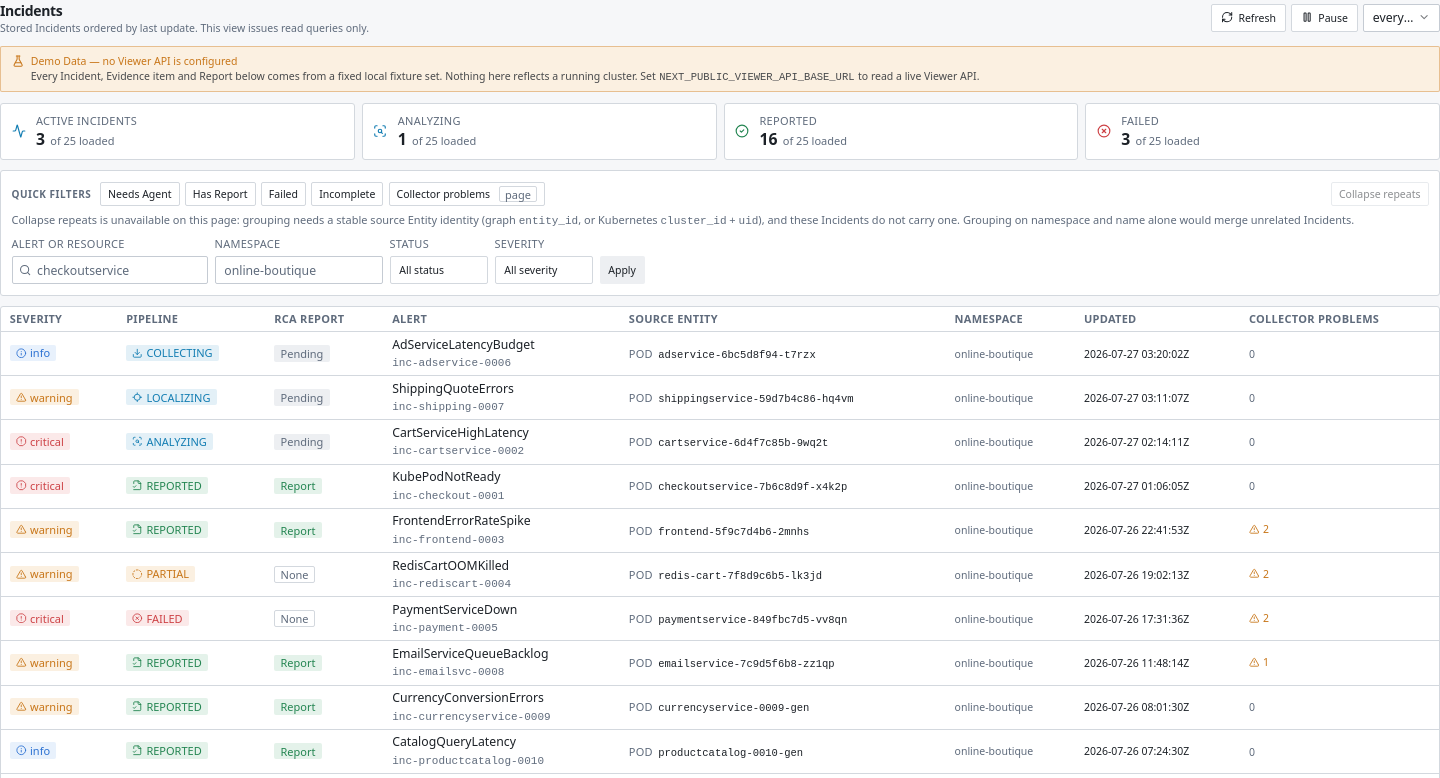
Test: IncidentListView filtering › explains an empty result instead of showing a blank table
Type "no-such-service" into the field labelled "Alert or resource" at (110, 270), box [12,256,208,284]
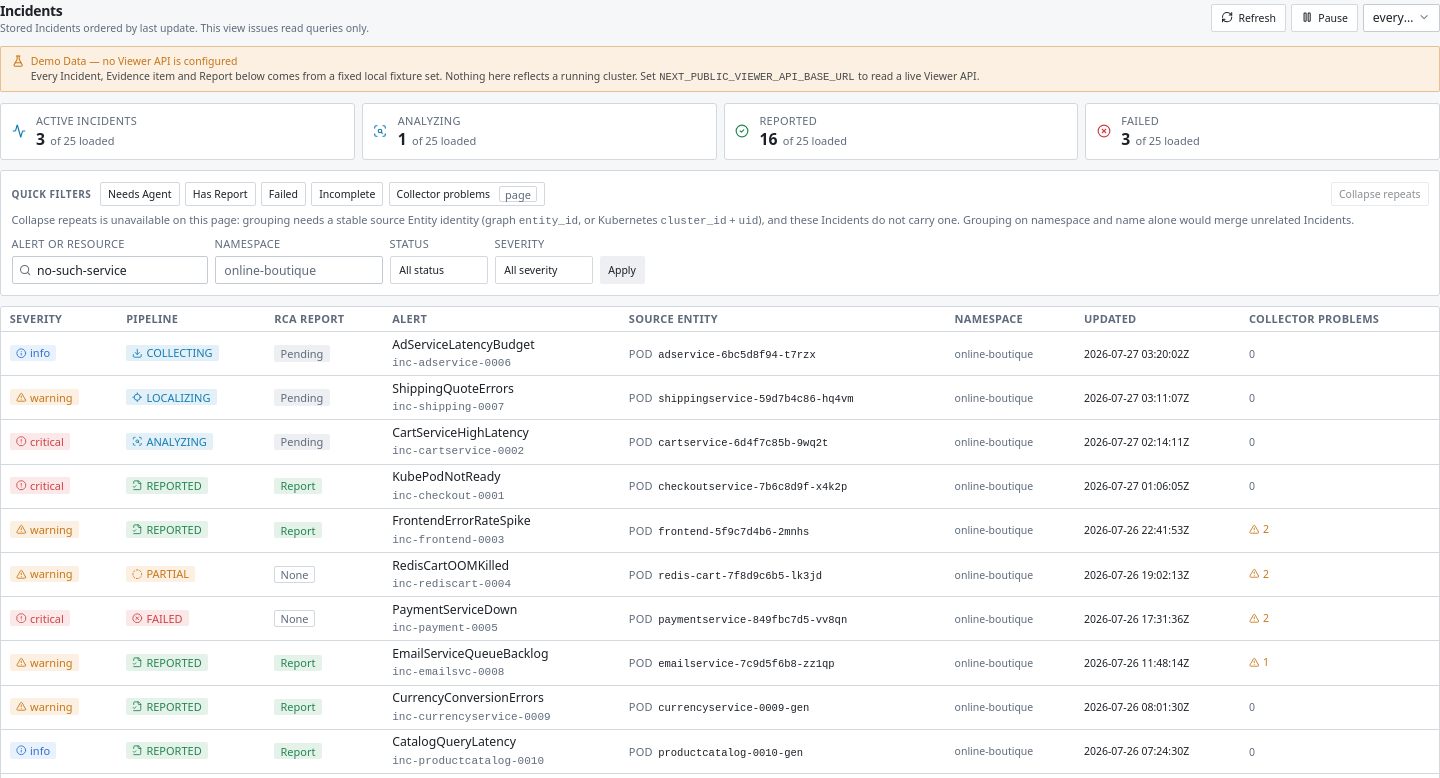
Click the button "Apply" at (622, 270), box [600,256,645,284]
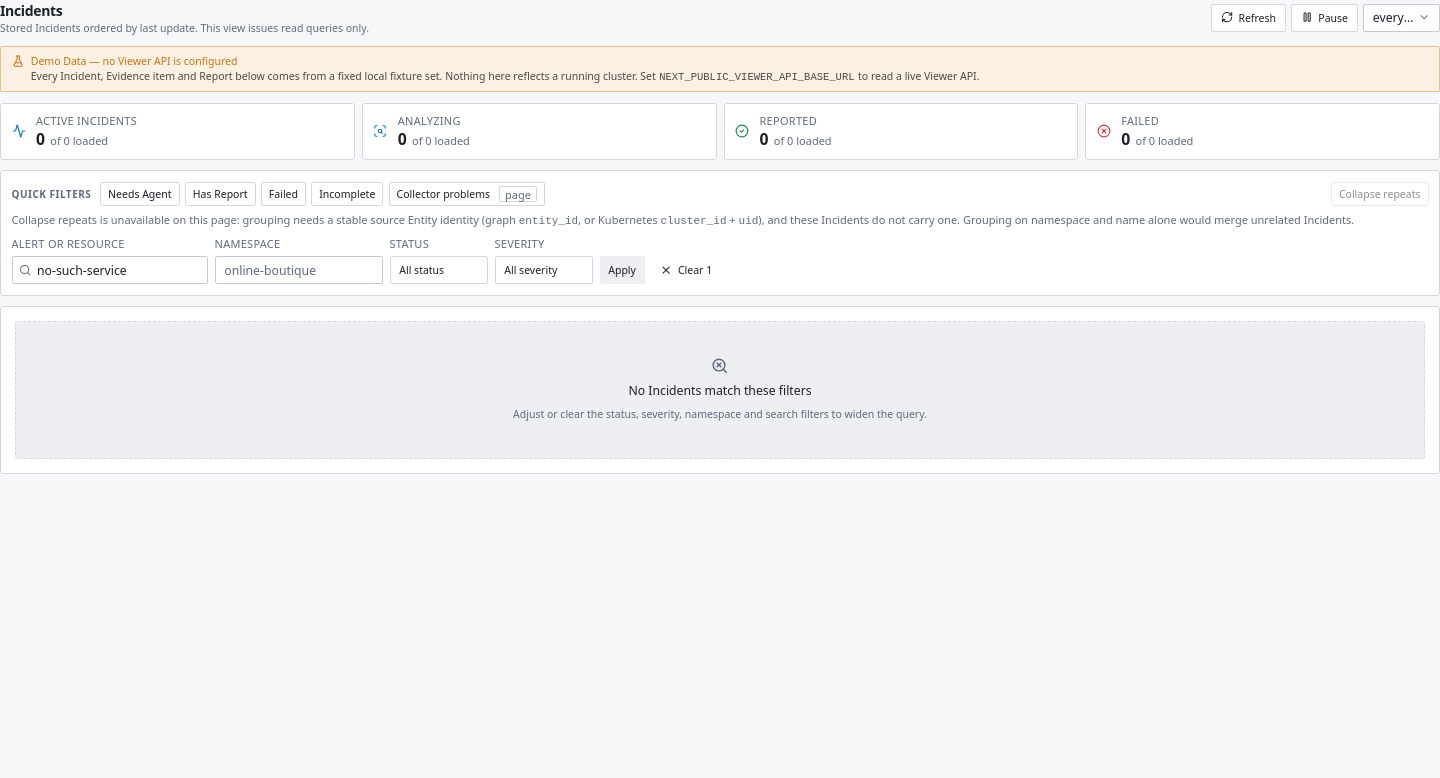
Expected: the text "No Incidents match these filters" is shown, [628,382,812,399]
